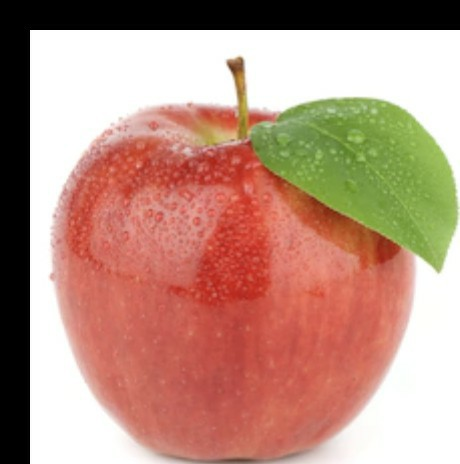fresh_apple: (49, 101, 421, 461)
